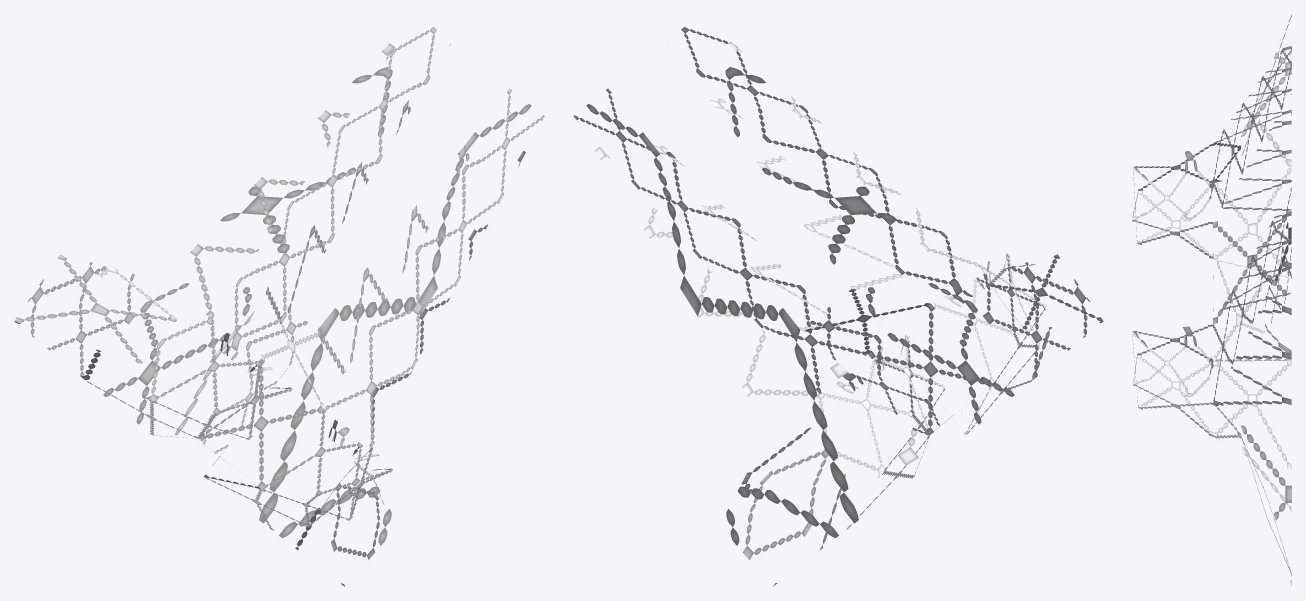
The model's file is ship0.obj.
3 views of the same model, side by side, from view 1: azimuth 30°, elevation 25°; view 2: azimuth 150°, elevation 25°; view 3: azimuth 270°, elevation 25° (orthographic). The views are drawn at different scales.
Visible parts, largest first — view 1: Box001_Mesh; view 2: Box001_Mesh; view 3: Box001_Mesh.
Part boxes in pixels (box(x1,y1,x2,y2)): Box001_Mesh: box(14, 27, 544, 586); Box001_Mesh: box(573, 27, 1103, 586); Box001_Mesh: box(1132, 14, 1291, 586).
Size of the model in its own units: 604 by 604 by 149.
Materials: 1 (1 with a texture image).
